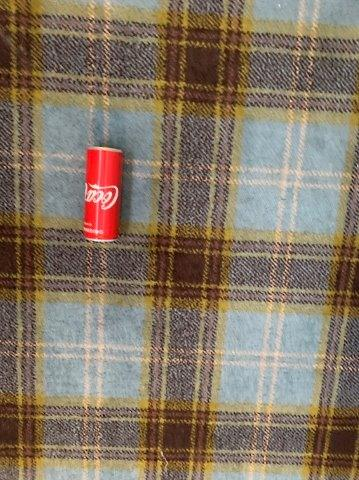kaleng: (84, 147, 123, 241)
